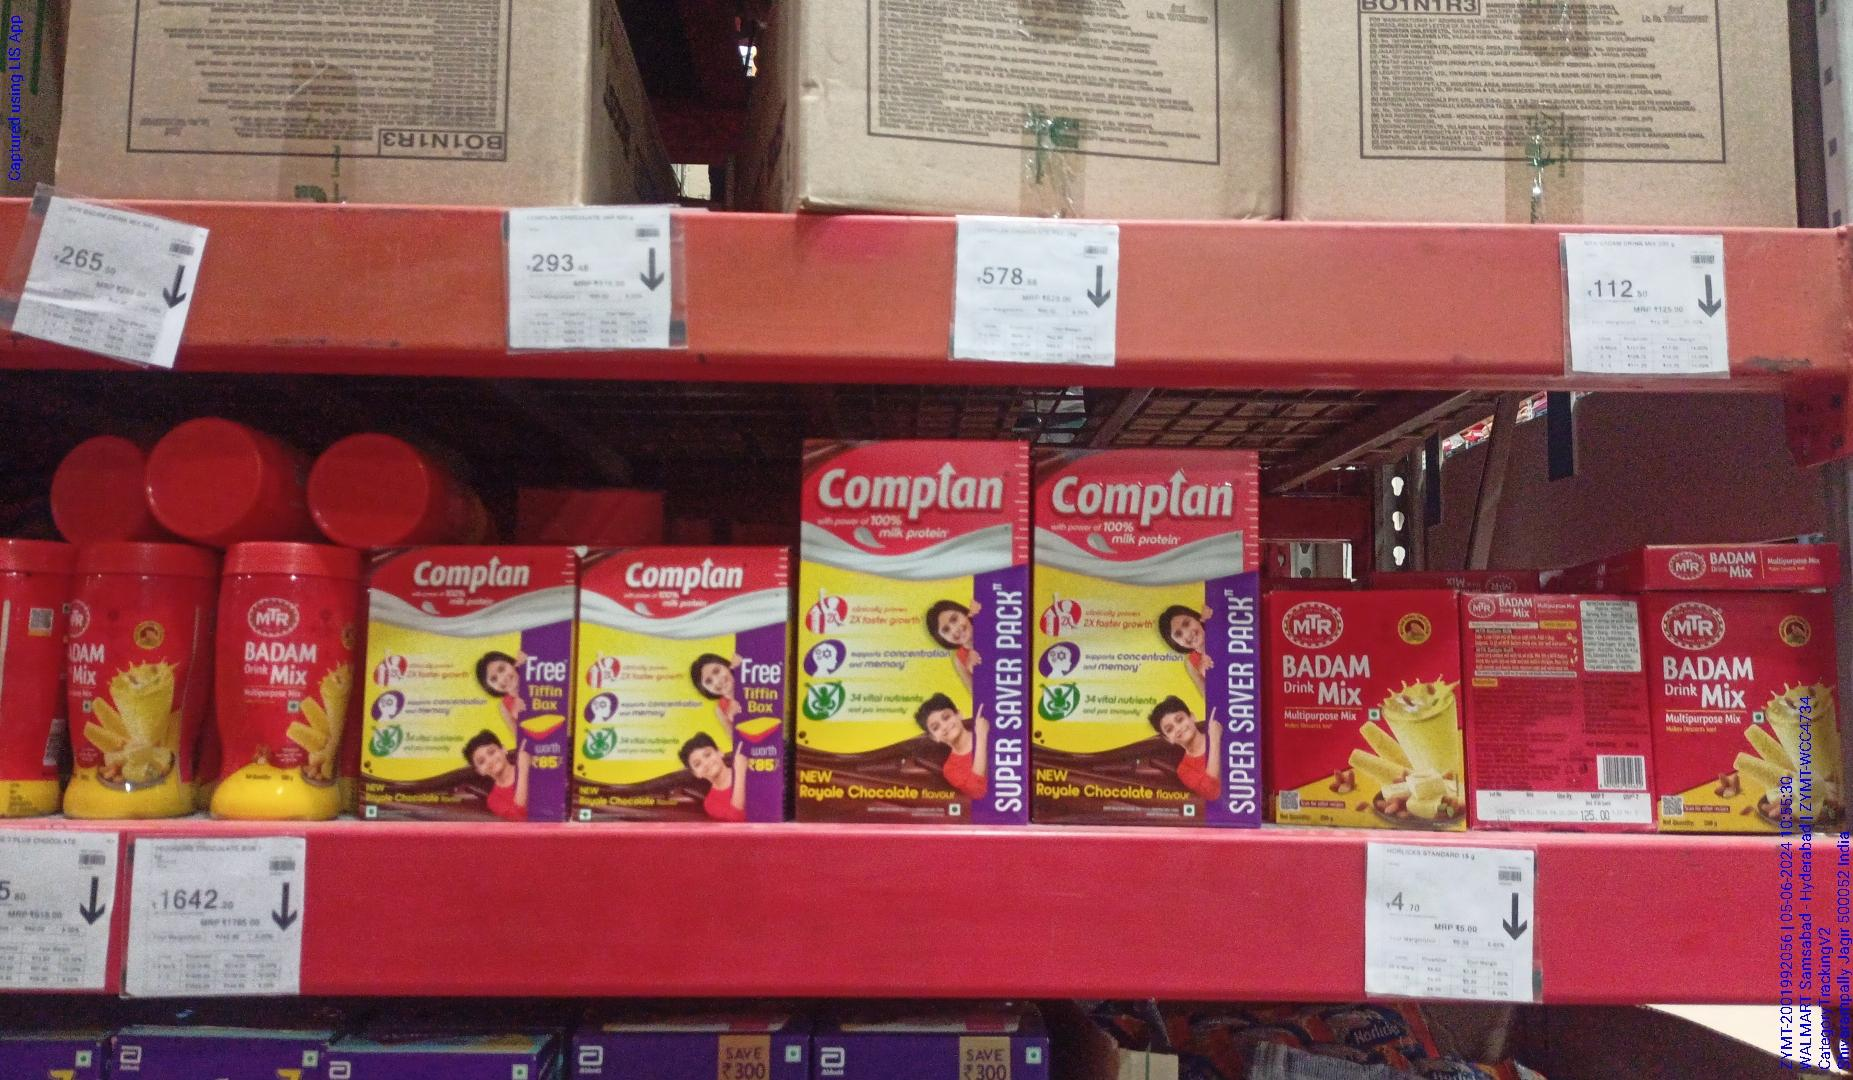COMPLAN_CHOCOLATE_1_KG_PACK: (799, 435, 1029, 825), (1042, 446, 1259, 827)
